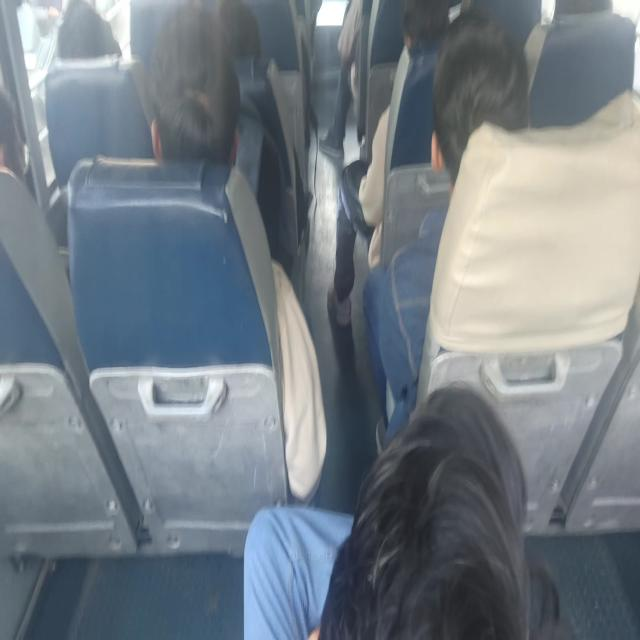person: (147, 4, 327, 502), (243, 381, 559, 638), (362, 8, 529, 447), (326, 0, 450, 326), (147, 3, 240, 165), (318, 0, 363, 159), (55, 0, 122, 60)
